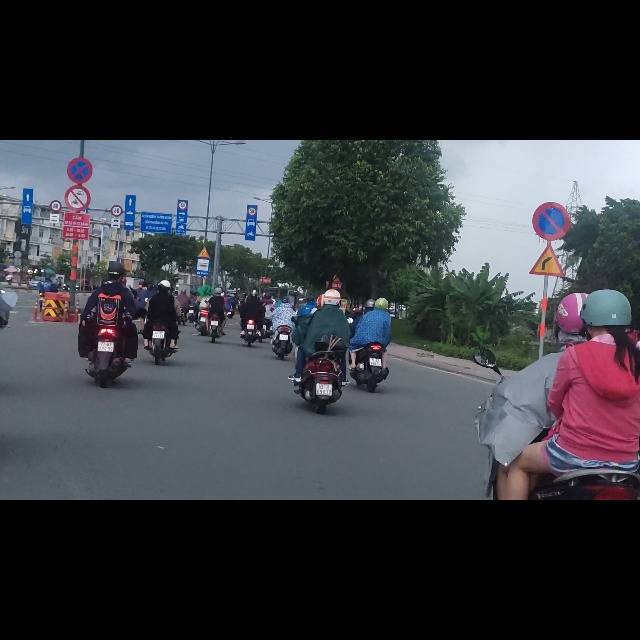bien_nguy_hiem: (530, 109, 569, 180), (529, 180, 567, 245), (67, 30, 92, 80), (65, 81, 90, 129), (196, 211, 209, 242), (111, 114, 123, 137), (197, 189, 209, 211), (51, 106, 62, 127), (110, 138, 121, 158), (248, 117, 257, 135), (178, 108, 187, 124)
